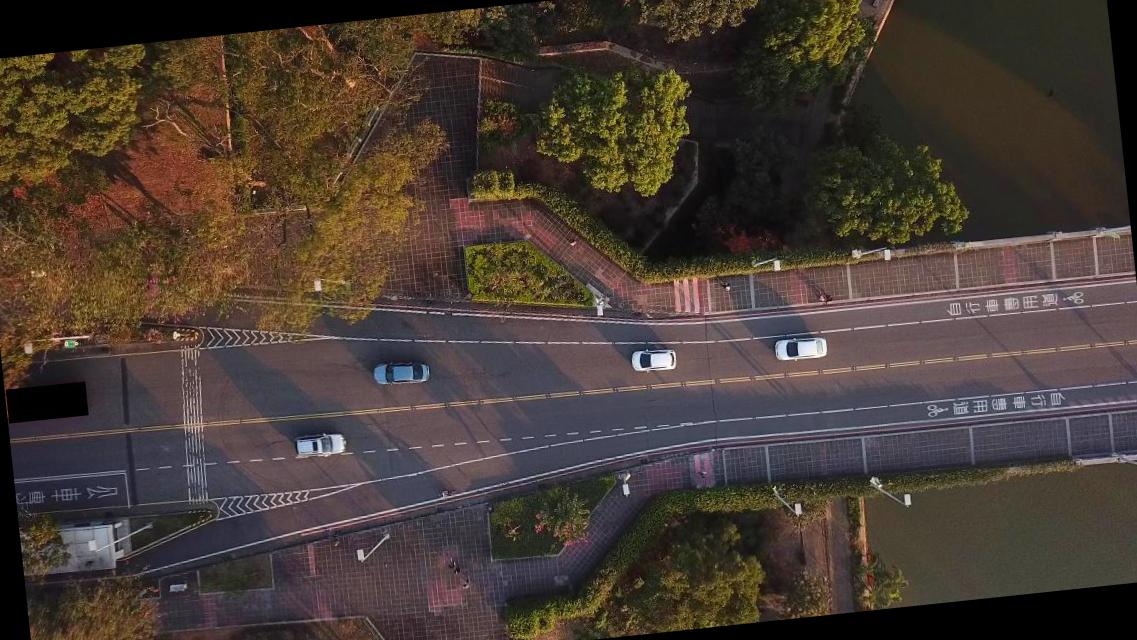vehicle: (372, 358, 430, 387), (292, 430, 348, 458), (774, 334, 828, 362), (630, 345, 678, 374)
